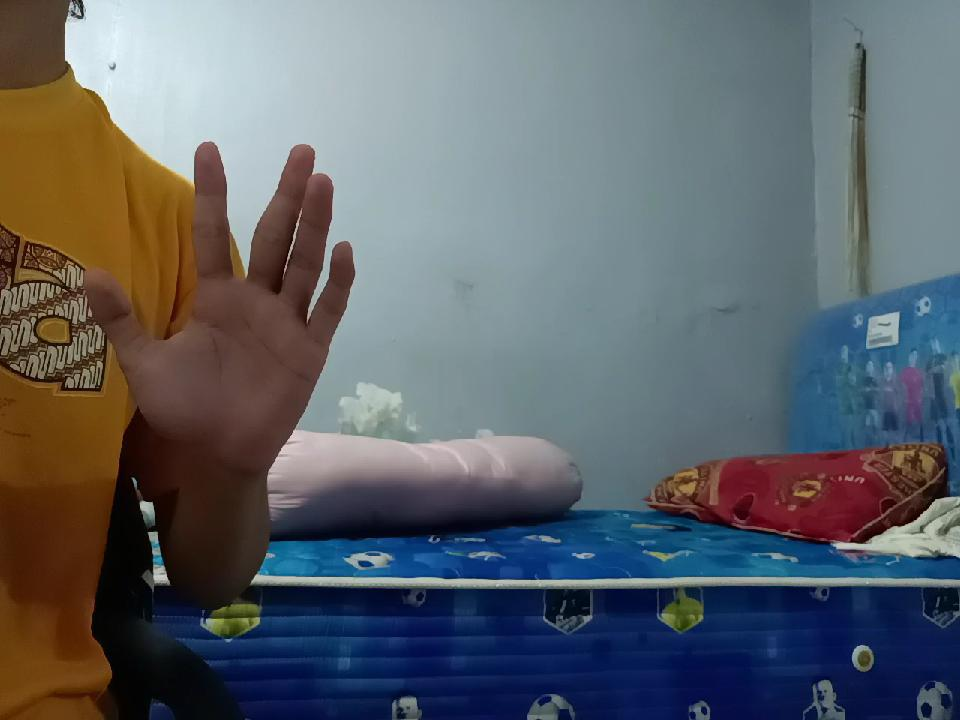paper: (98, 100, 362, 480)
